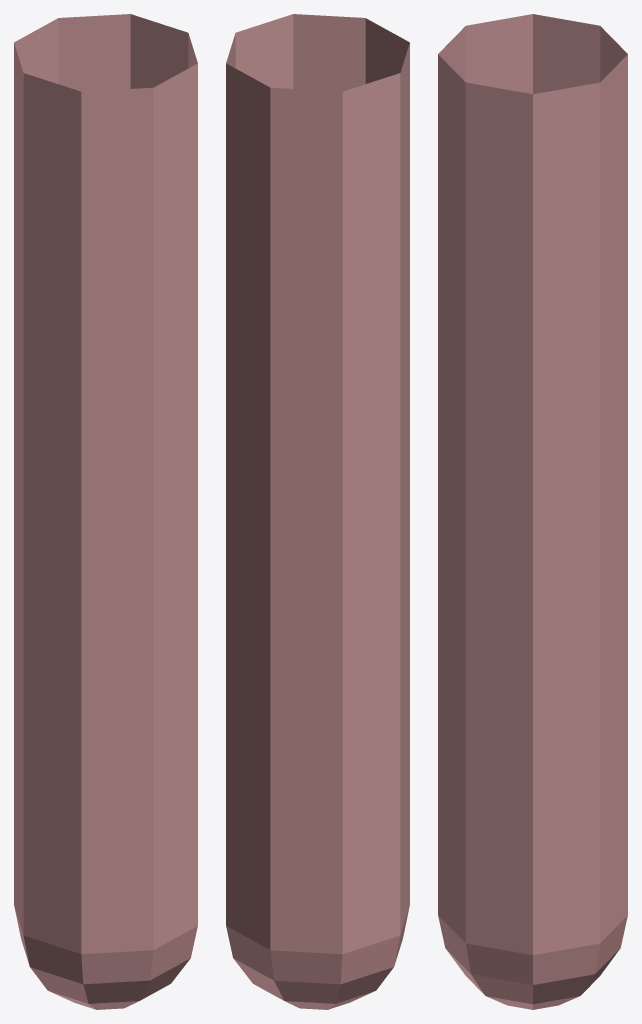
File: Teat.fbx
3 renders of one model, left to right at view 1: azimuth 30°, elevation 25°; view 2: azimuth 150°, elevation 25°; view 3: azimuth 270°, elevation 25°, orthographic.
Visible parts, largest first — view 1: Teat; view 2: Teat; view 3: Teat.
Boxes of the visible parts, x1=… form: Teat: x1=14, y1=14, x2=197, y2=1009; Teat: x1=226, y1=14, x2=409, y2=1009; Teat: x1=438, y1=14, x2=627, y2=1009.
Size of the model in its own units: 0.06 by 0.33 by 0.06.
